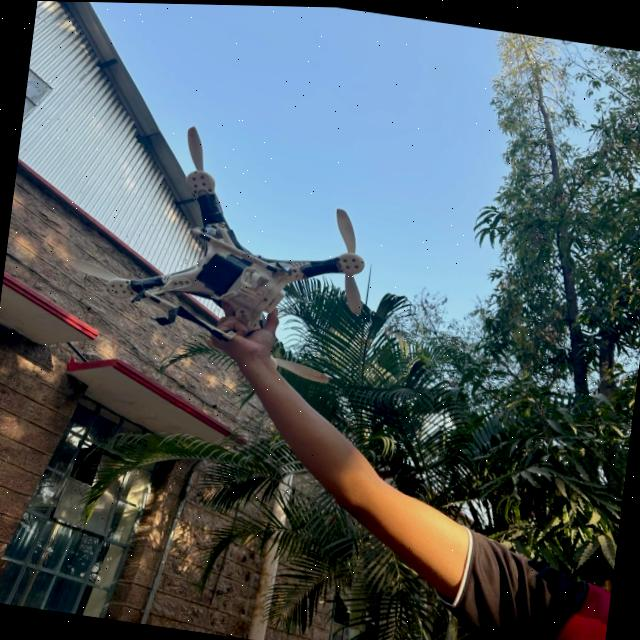drone: (62, 131, 392, 380)
